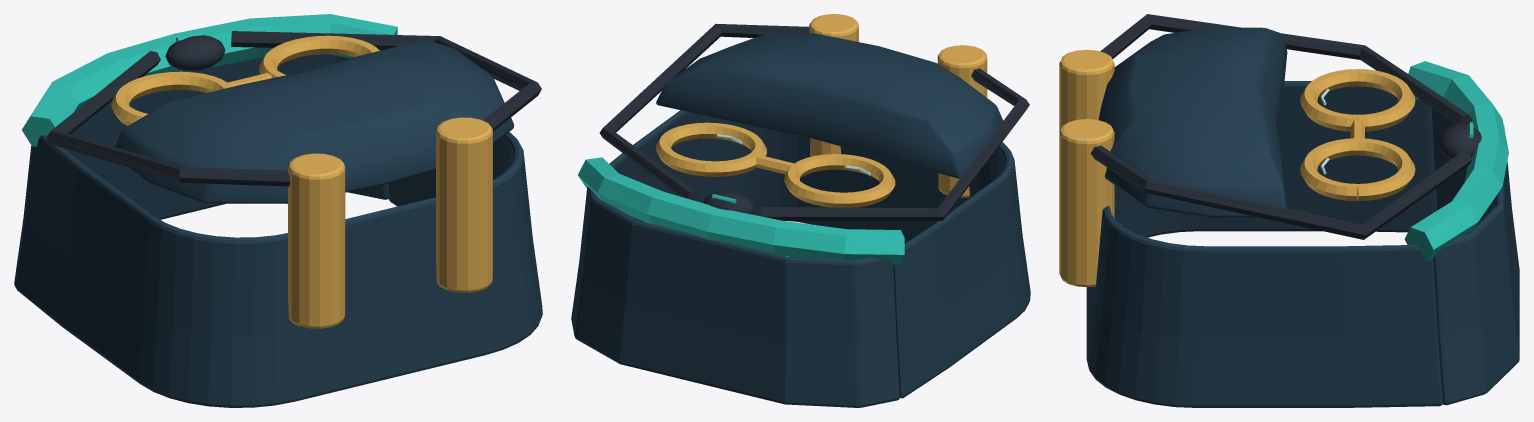
Rendered from diving_suit.fbx.
3 renders of one model, left to right at view 1: azimuth 30°, elevation 25°; view 2: azimuth 150°, elevation 25°; view 3: azimuth 270°, elevation 25°, orthographic. The views are drawn at different scales.
Parts seen in each view (by area): view 1: diving_suit_armor; view 2: diving_suit_armor; view 3: diving_suit_armor.
Part boxes in pixels (left/top/right/bottom): diving_suit_armor: left=14, top=14, right=542, bottom=407; diving_suit_armor: left=571, top=14, right=1030, bottom=407; diving_suit_armor: left=1059, top=14, right=1519, bottom=407.
Size of the model in its own units: 4.3 by 2.63 by 4.5.
1 material, 1 textured.
